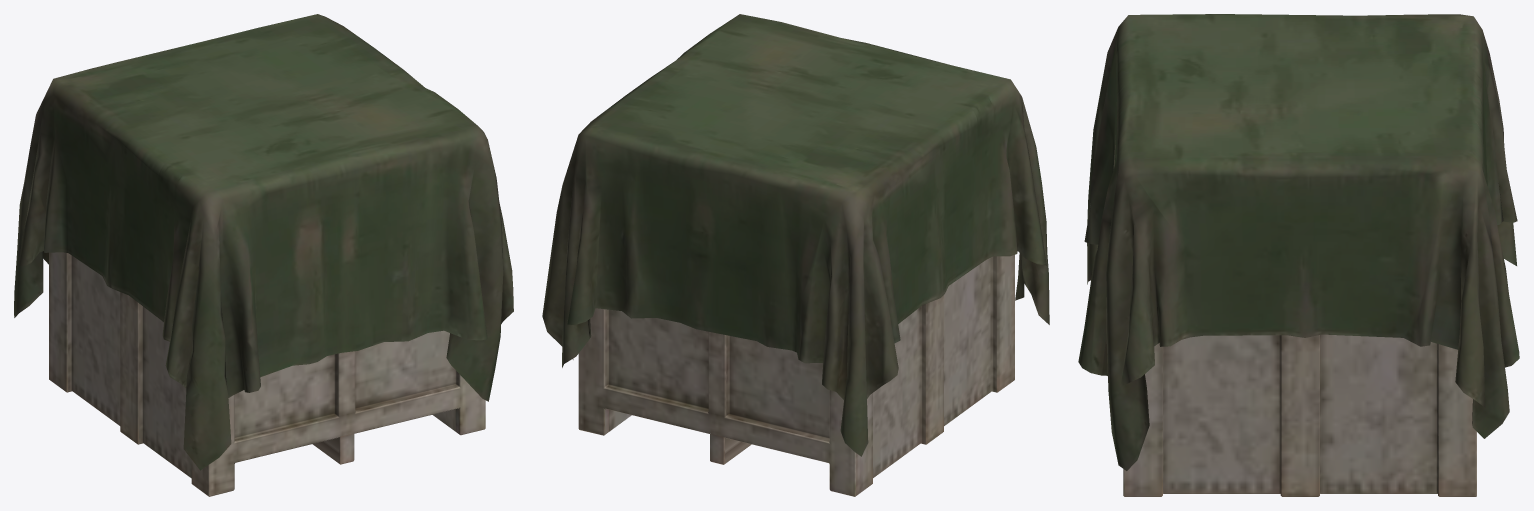
File: wooden_crate_d_red.glb
3 renders of one model, left to right at view 1: azimuth 30°, elevation 25°; view 2: azimuth 150°, elevation 25°; view 3: azimuth 270°, elevation 25°, orthographic. The views are drawn at different scales.
Parts seen in each view (by area): view 1: wooden_crate_d_red; view 2: wooden_crate_d_red; view 3: wooden_crate_d_red.
Part boxes in pixels (x1,y1,x2,y2): wooden_crate_d_red: [14, 14, 513, 496]; wooden_crate_d_red: [542, 14, 1049, 496]; wooden_crate_d_red: [1078, 14, 1519, 496].
Bounding box in the file's own units: 1.89 × 1.57 × 1.87.
2 materials, 2 textured.
